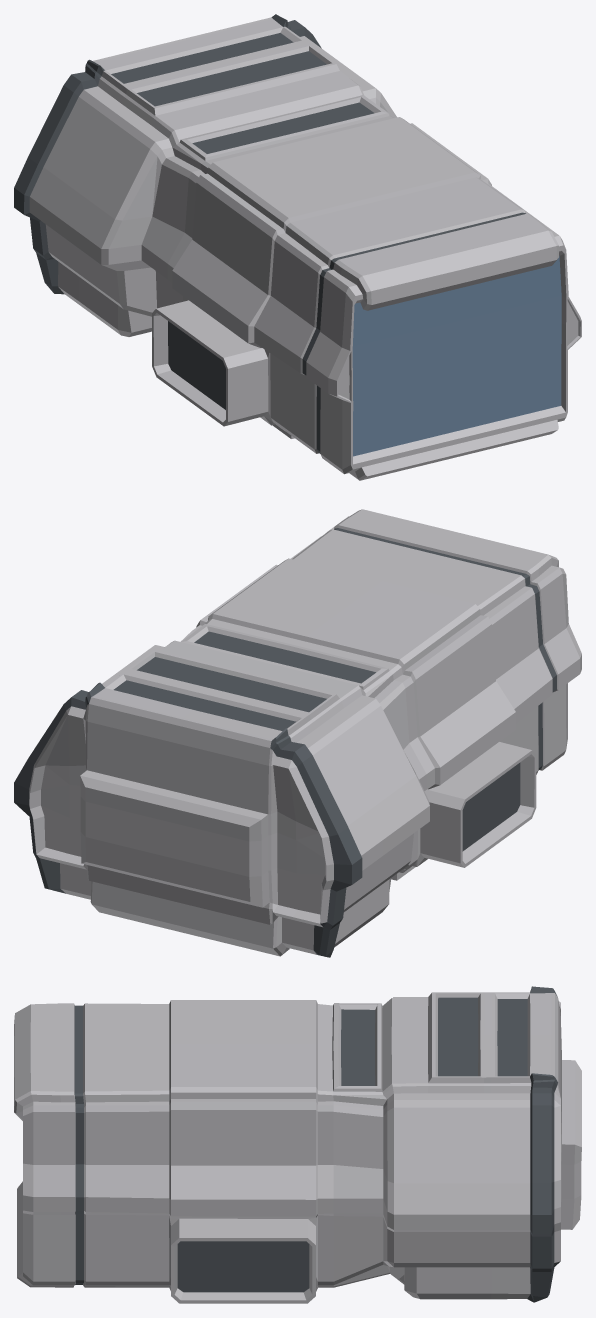
The model's file is Fighter_10_Frontal_Body.fbx.
3 renders of one model, top to bottom at view 1: azimuth 30°, elevation 25°; view 2: azimuth 150°, elevation 25°; view 3: azimuth 270°, elevation 25°, orthographic. The views are drawn at different scales.
Parts seen in each view (by area): view 1: Fighter_10_Frontal_Body; view 2: Fighter_10_Frontal_Body; view 3: Fighter_10_Frontal_Body.
Boxes of the visible parts, <box> form: Fighter_10_Frontal_Body: <box>14,14,581,480</box>; Fighter_10_Frontal_Body: <box>14,509,581,957</box>; Fighter_10_Frontal_Body: <box>14,986,581,1303</box>.
Size of the model in its own units: 971 by 660 by 1478.
3 materials, 3 textured.
